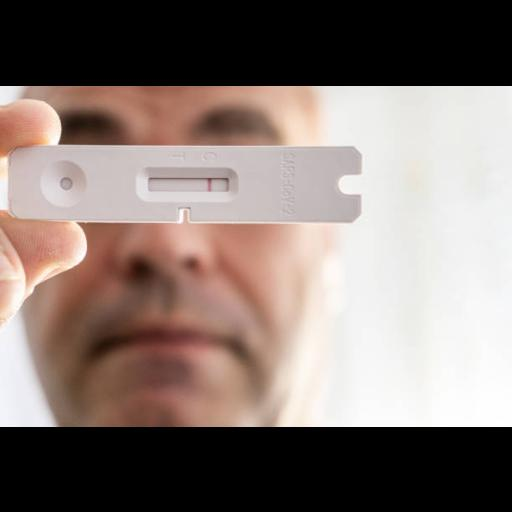Neg: (10, 145, 360, 221)
